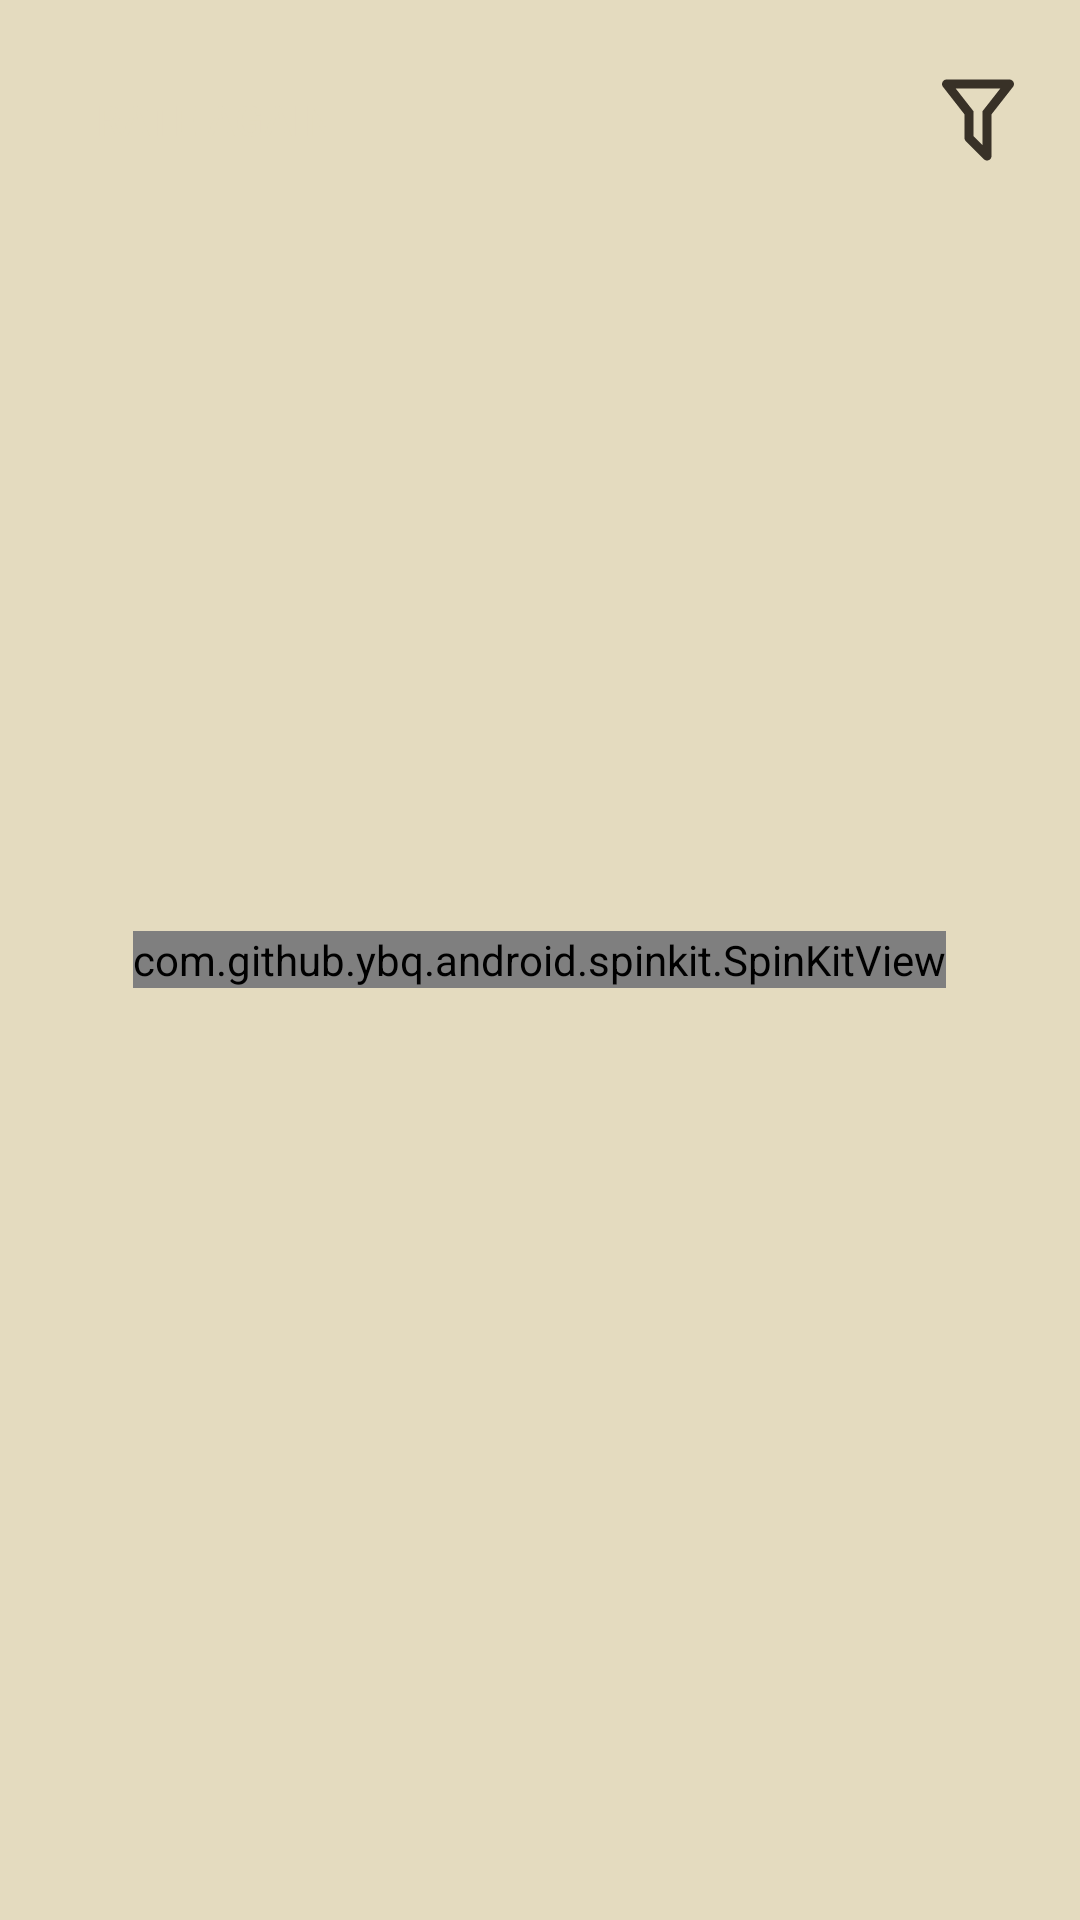

Icons on this 1080x1920 Android screen, each with its box as (x1=x1, y1=y1, x2=x2, y2=y2):
filter: (x1=942, y1=79, x2=1014, y2=161)
